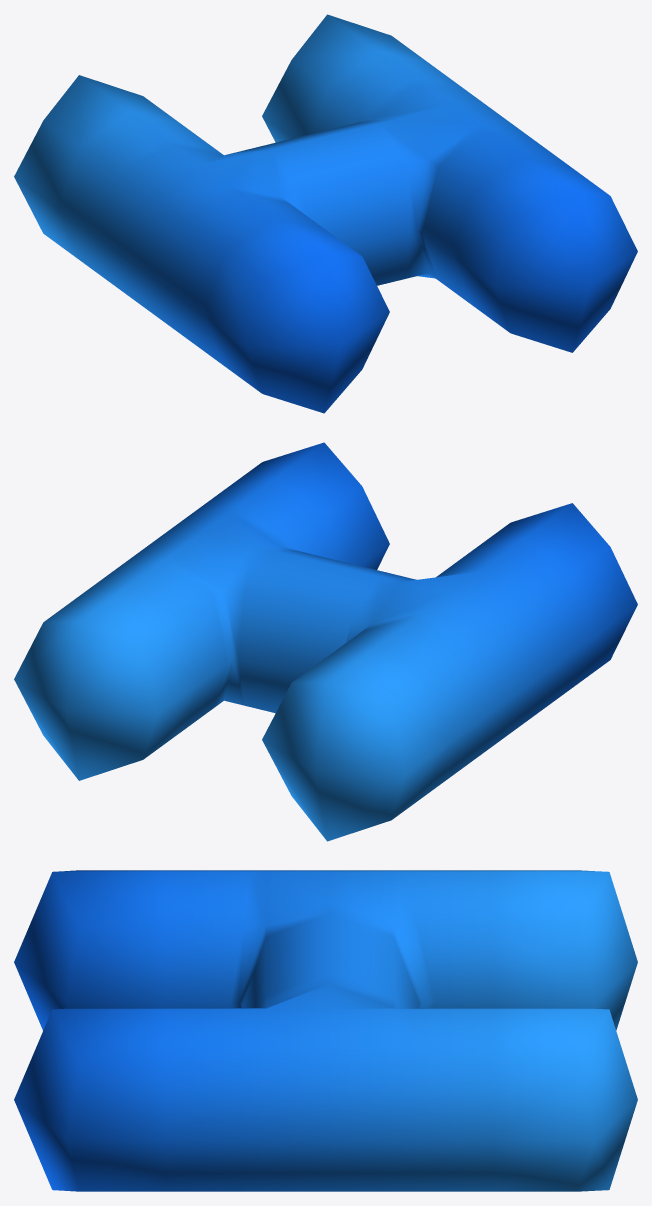
Rendered from CartoonFont_H.FBX.
The picture shows the model from 3 angles, top to bottom: view 1: azimuth 30°, elevation 25°; view 2: azimuth 150°, elevation 25°; view 3: azimuth 270°, elevation 25°; orthographic projection. The views are drawn at different scales.
Parts seen in each view (by area): view 1: H; view 2: H; view 3: H.
Boxes of the visible parts, x1,y1,x2,y2 form: H: (14, 14, 637, 413); H: (14, 442, 637, 841); H: (14, 870, 637, 1191).
Bounding box in the file's own units: 24.85 × 9.65 × 30.21.
1 material, 1 textured.
